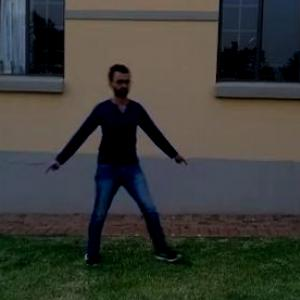land: (47, 65, 179, 249)
